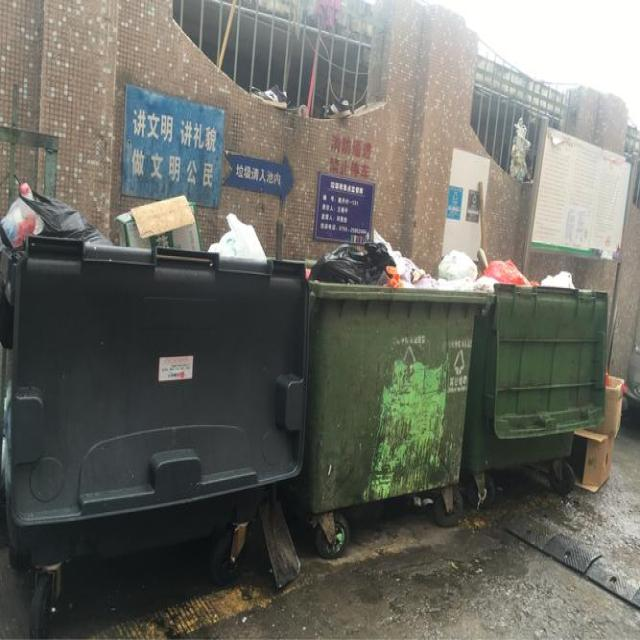garbage: (571, 374, 626, 492)
overflow: (0, 182, 307, 558), (302, 229, 494, 511), (464, 250, 606, 472)
